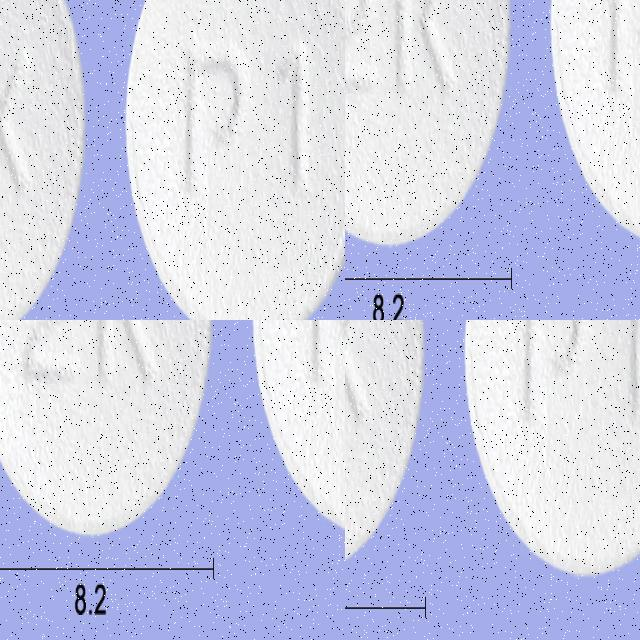Letroxin: (463, 320, 640, 577), (345, 320, 426, 578)
Levofloxacin: (0, 166, 157, 320)
Truvada Tab: (345, 21, 640, 320)
Unifixime Cap: (99, 326, 289, 640)
